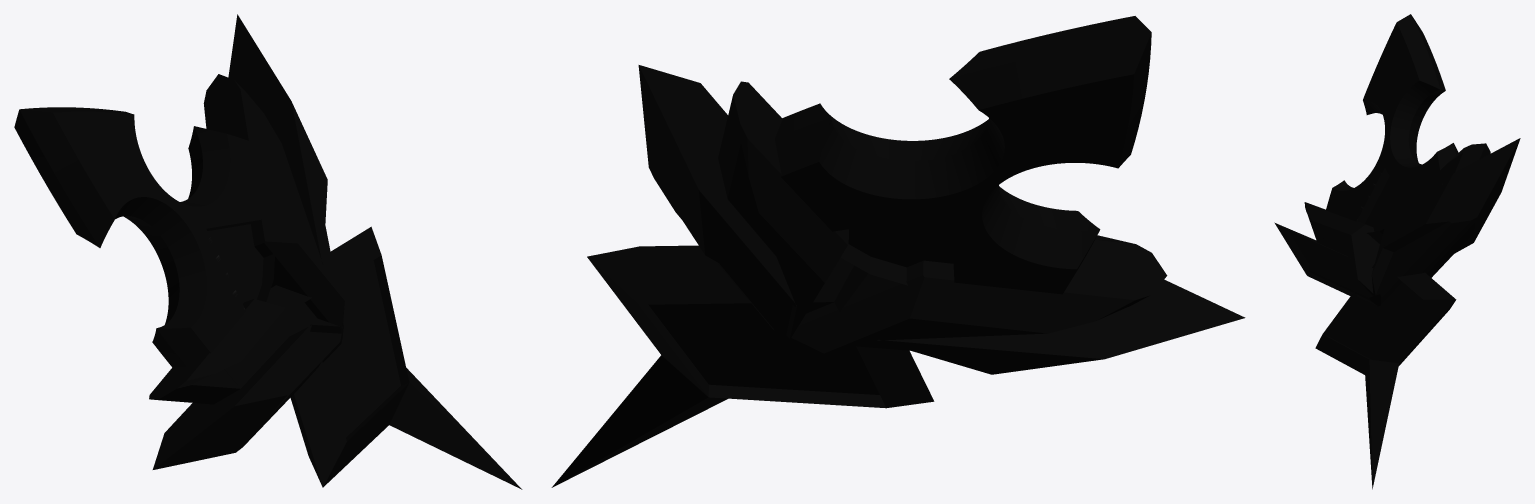
The model's file is selen.glb.
3 views of the same model, side by side, from view 1: azimuth 30°, elevation 25°; view 2: azimuth 150°, elevation 25°; view 3: azimuth 270°, elevation 25° (orthographic). The views are drawn at different scales.
Parts seen in each view (by area): view 1: node_id3; view 2: node_id3; view 3: node_id3.
Part boxes in pixels (left/top/right/bottom): node_id3: left=14, top=14, right=522, bottom=489; node_id3: left=551, top=16, right=1245, bottom=487; node_id3: left=1274, top=14, right=1520, bottom=489.
Bounding box in the file's own units: 0.5039 × 0.4824 × 0.3367.
1 material, 1 textured.
